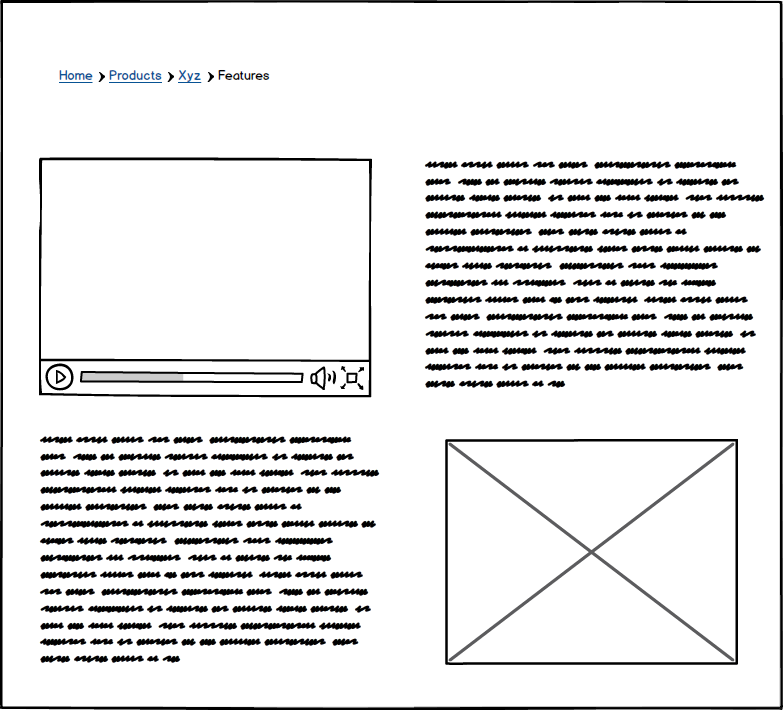h1: (46, 51, 273, 89)
image: (438, 434, 744, 671)
p: (36, 429, 389, 670), (422, 156, 769, 393)
video: (36, 152, 376, 401)
